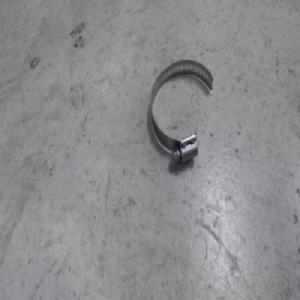AdjustableClamp: (146, 48, 216, 156)
